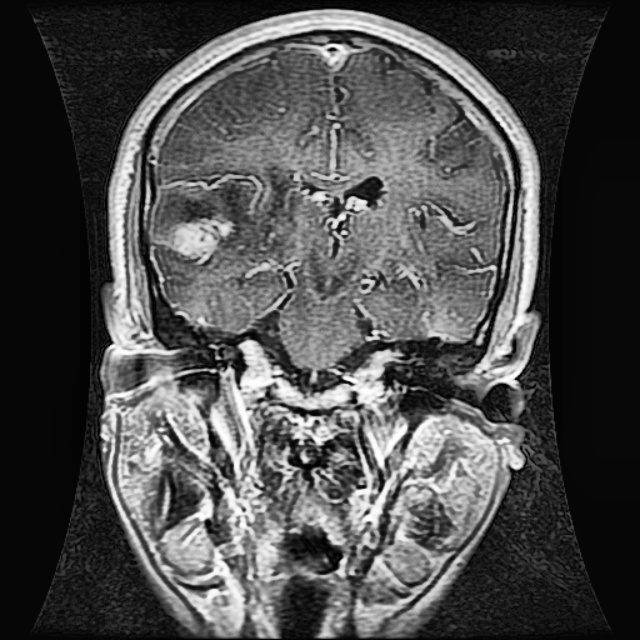Meningioma: (164, 207, 238, 265)
